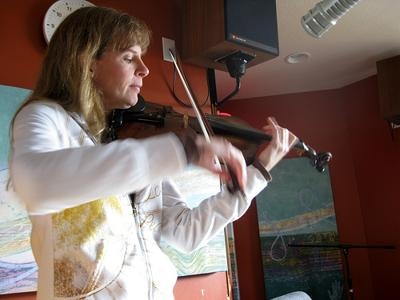person: (11, 6, 297, 300)
